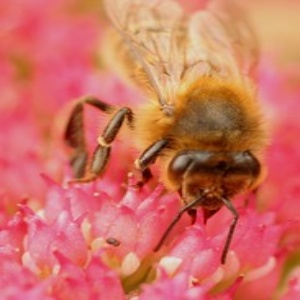bee: (67, 1, 275, 264)
